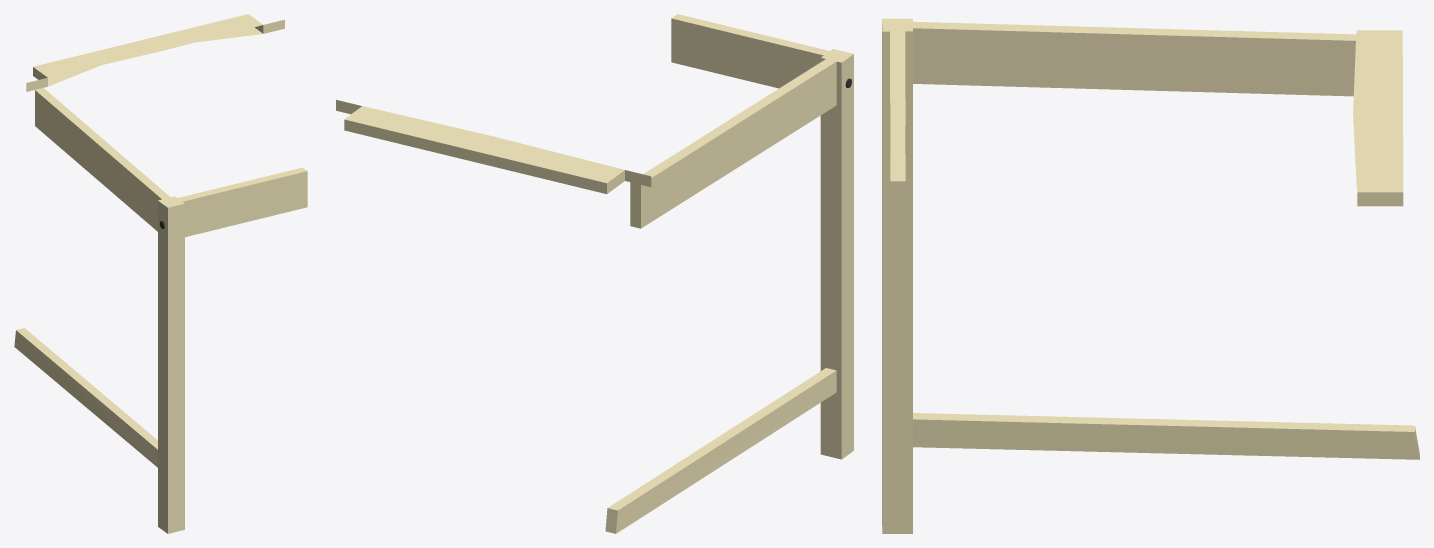
Rendered from leg1.obj.
The picture shows the model from 3 angles, left to right: view 1: azimuth 30°, elevation 25°; view 2: azimuth 150°, elevation 25°; view 3: azimuth 270°, elevation 25°; orthographic projection. The views are drawn at different scales.
Visible parts, largest first — view 1: leg1; view 2: leg1; view 3: leg1.
Boxes of the visible parts, x1=… form: leg1: x1=14, y1=14, x2=307, y2=533; leg1: x1=336, y1=14, x2=853, y2=533; leg1: x1=882, y1=18, x2=1419, y2=533.
Size of the model in its own units: 15.8 by 18.56 by 17.51.
